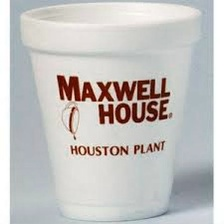paper_cup: (15, 0, 207, 224)
